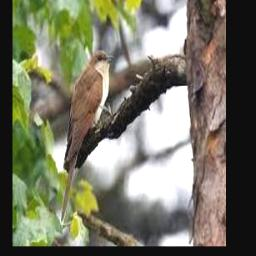Cuckoo: (61, 49, 114, 224)
